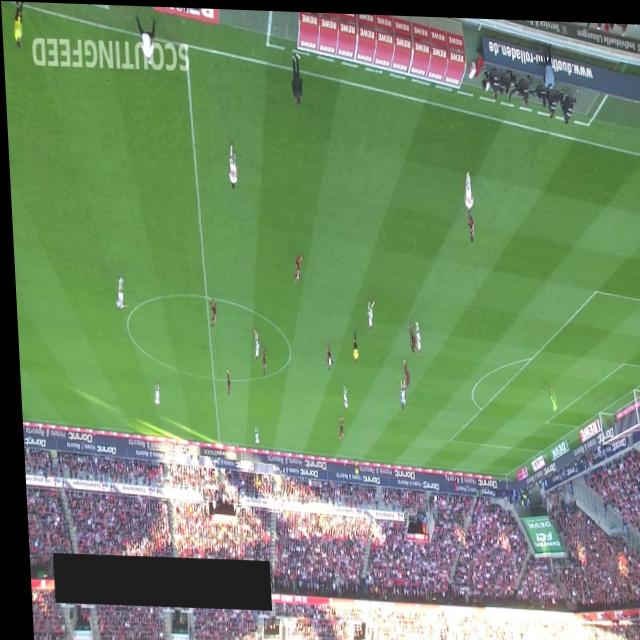goalkeeper: (544, 381, 553, 410)
player: (224, 139, 236, 188), (110, 275, 125, 309), (460, 165, 471, 209), (204, 296, 215, 325), (289, 251, 300, 279), (463, 205, 472, 237), (363, 295, 372, 327), (403, 318, 411, 349), (321, 338, 329, 367), (248, 326, 255, 358), (394, 376, 401, 406), (410, 317, 416, 351), (398, 356, 405, 385), (148, 380, 155, 406), (338, 382, 344, 408), (331, 414, 338, 436), (257, 345, 262, 373), (222, 367, 227, 393), (248, 422, 254, 443)
referee: (12, 0, 24, 49), (346, 327, 355, 359), (348, 455, 353, 473)
